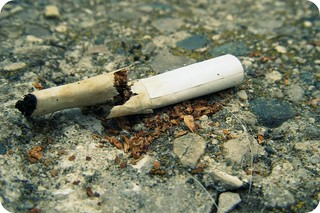cigarette: (80, 52, 247, 123), (16, 64, 135, 121)
